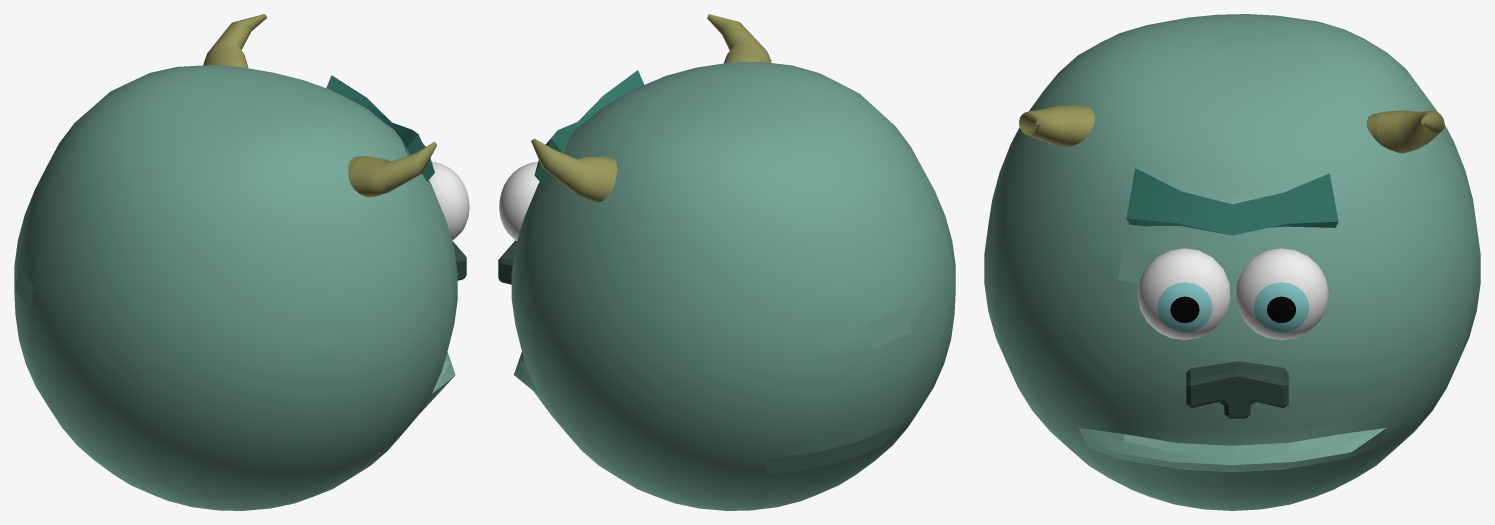
File: Monster7.fbx
3 renders of one model, left to right at view 1: azimuth 30°, elevation 25°; view 2: azimuth 150°, elevation 25°; view 3: azimuth 270°, elevation 25°, orthographic. The views are drawn at different scales.
Parts seen in each view (by area): view 1: pCube16; view 2: pCube16; view 3: pCube16.
Part boxes in pixels (x1,y1,x2,y2): pCube16: (14,14,469,510); pCube16: (498,14,955,510); pCube16: (984,14,1480,510).
Bounding box in the file's own units: 180 × 168 × 171.
